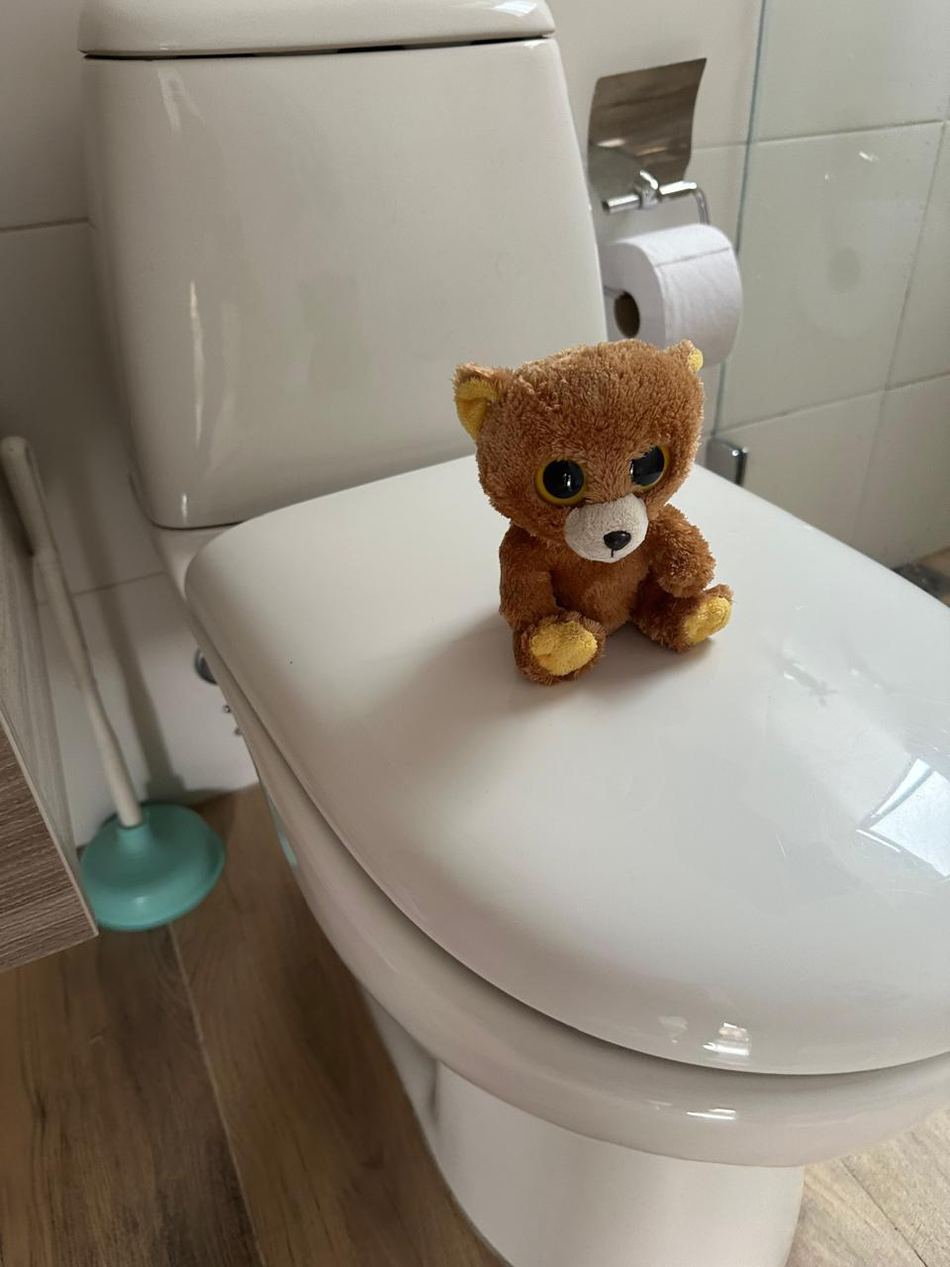peluche_sebastian: (445, 337, 747, 688)
